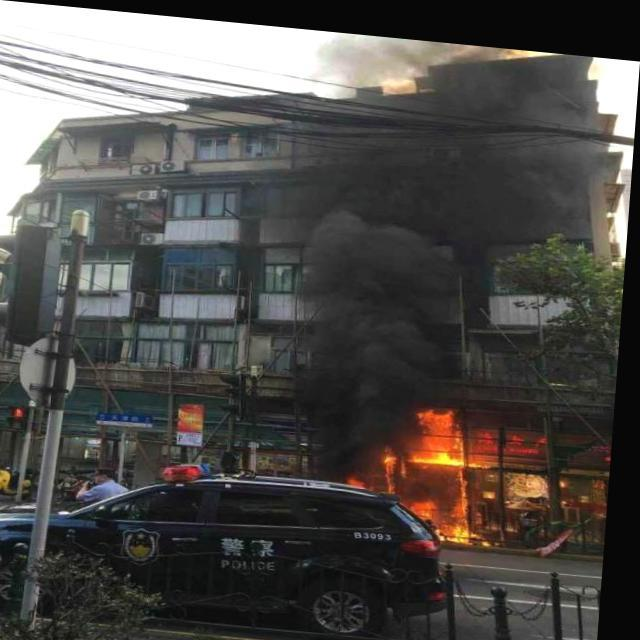Fire: (368, 392, 563, 536)
